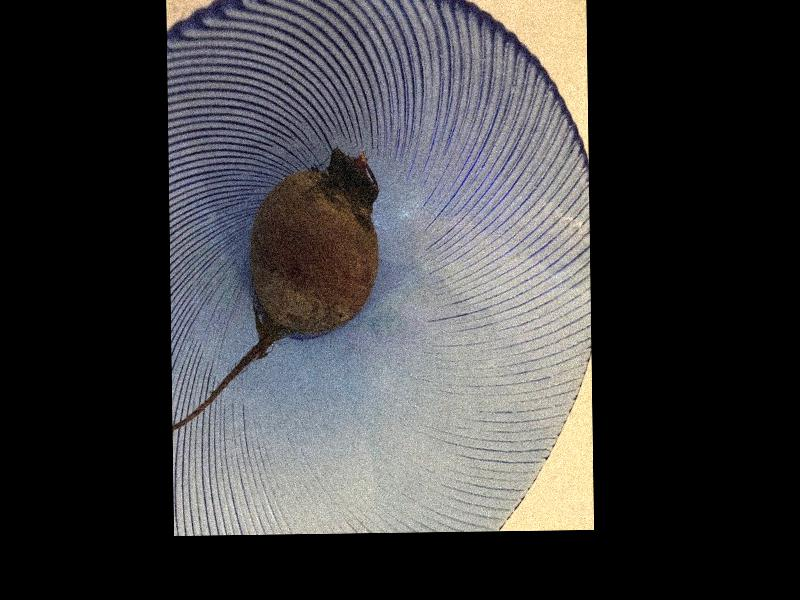Beet: (168, 148, 380, 428)
